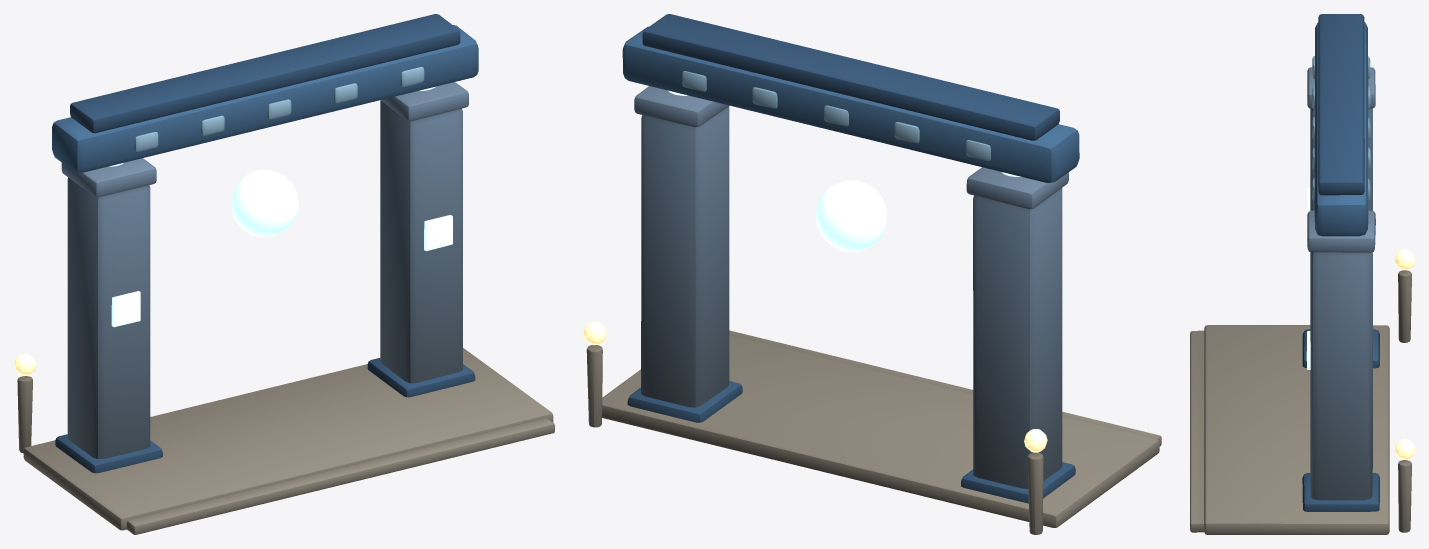
3 views of the same model, side by side, from view 1: azimuth 30°, elevation 25°; view 2: azimuth 150°, elevation 25°; view 3: azimuth 270°, elevation 25° (orthographic). The views are drawn at different scales.
Parts seen in each view (by area): view 1: gate_68250fba; view 2: gate_68250fba; view 3: gate_68250fba.
Part boxes in pixels (x1,y1,x2,y2): gate_68250fba: [14, 14, 554, 534]; gate_68250fba: [583, 14, 1161, 534]; gate_68250fba: [1190, 14, 1414, 534].
Bounding box in the file's own units: 5.35 × 4.25 × 2.55.
